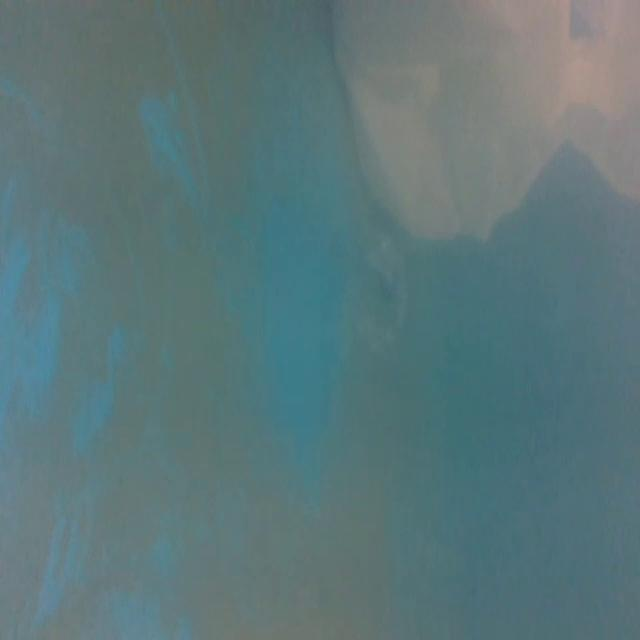plastic bags: (340, 0, 640, 235)
